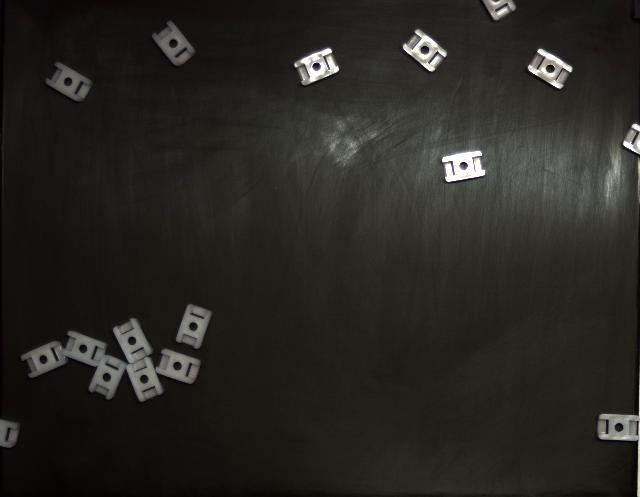second_side: (152, 21, 196, 66), (402, 29, 448, 72), (45, 62, 92, 102), (112, 319, 152, 364), (21, 341, 68, 379), (528, 49, 572, 89), (61, 331, 108, 368), (89, 355, 126, 400), (155, 349, 201, 385), (294, 49, 339, 85), (176, 305, 212, 349), (442, 151, 485, 182), (598, 414, 640, 441)
